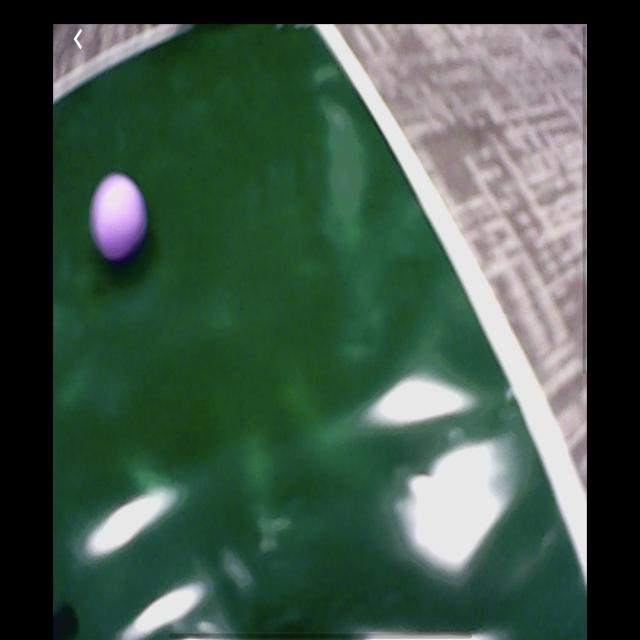ball: (89, 171, 149, 264)
